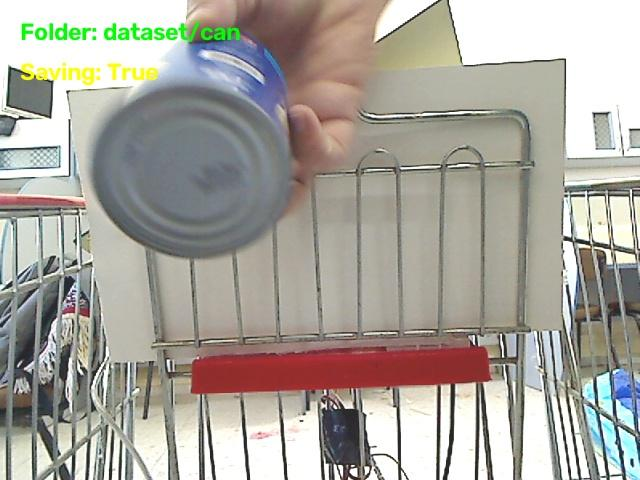can: (91, 34, 291, 257)
